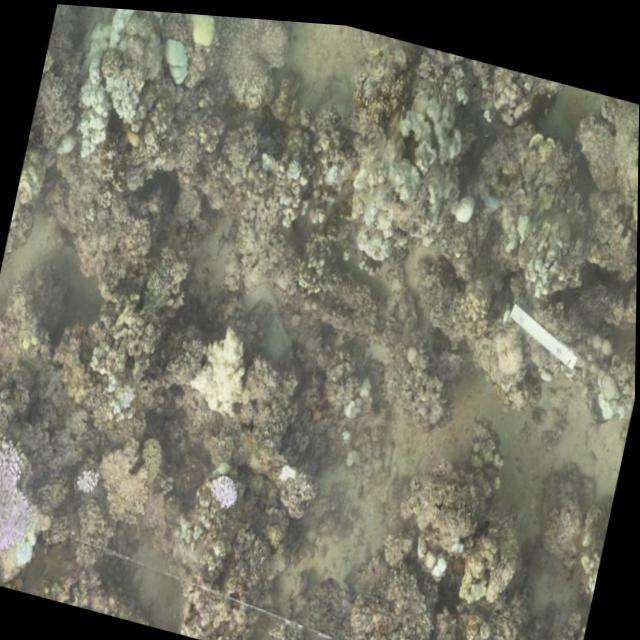Bleached Coral: (67, 71, 142, 158), (0, 435, 48, 564), (203, 456, 257, 515), (68, 451, 105, 503)
